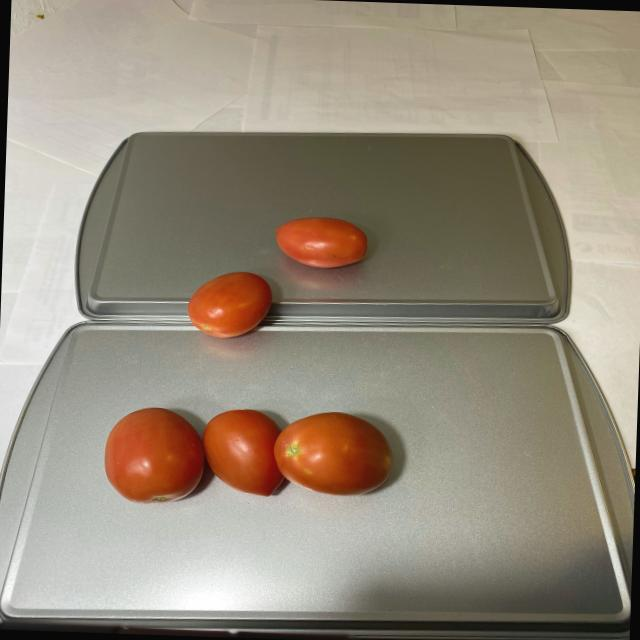tomato: (96, 400, 418, 512), (185, 213, 368, 343)
